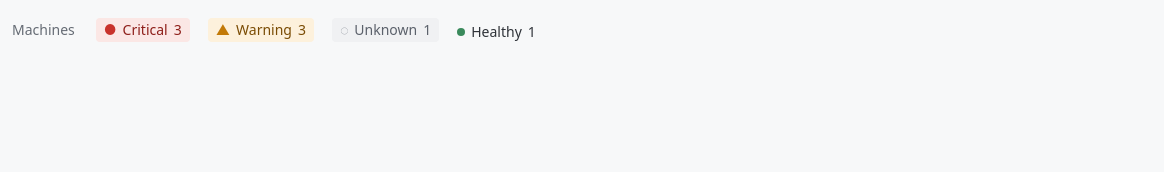
follows the site filter
Click the button "Healthy 1" at (496, 30), box [452,12,541,46]
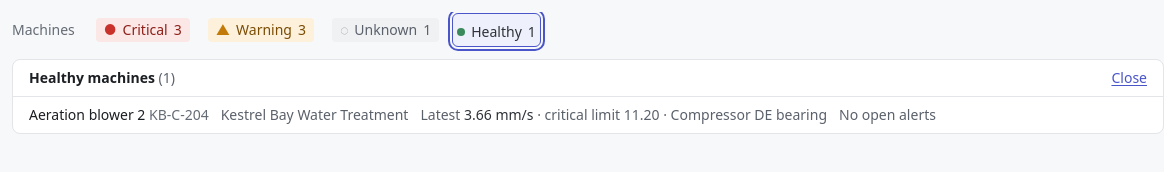
Check: the list item that starts with "Aeration blower 2" shows "Kestrel Bay Water Treatment", box [221,105,408,124]
